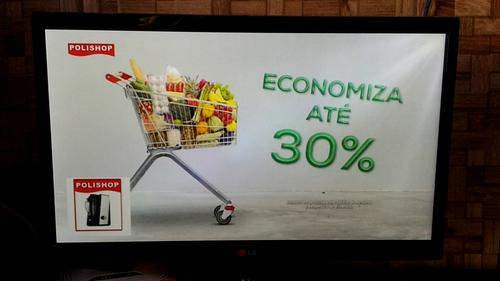Polishop #1: (67, 176, 131, 235)
